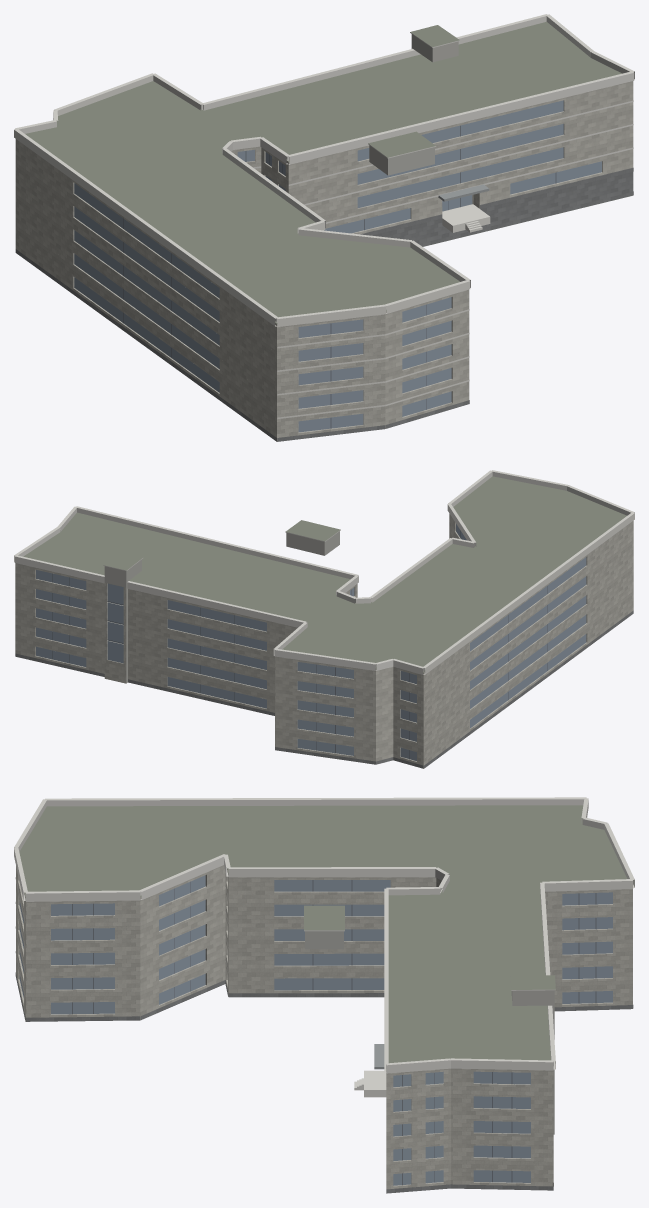
3 renders of one model, top to bottom at view 1: azimuth 30°, elevation 25°; view 2: azimuth 150°, elevation 25°; view 3: azimuth 270°, elevation 25°, orthographic. The views are drawn at different scales.
Parts seen in each view (by area): view 1: b58__roof, b58__wall, b58__glass, b58__trim, b58__base, b58__wall2, b58__entranceStair; view 2: b58__wall, b58__roof, b58__glass, b58__trim, b58__base, b58__wall2, b58__frame; view 3: b58__roof, b58__wall, b58__glass, b58__trim, b58__base, b58__wall2, b58__frame, b58__entranceStair.
Boxes of the visible parts, left/top/right/bottom form: b58__roof: left=25, top=22, right=632, bottom=323; b58__wall: left=15, top=81, right=633, bottom=441; b58__glass: left=74, top=100, right=601, bottom=432; b58__trim: left=14, top=14, right=634, bottom=418; b58__base: left=15, top=167, right=633, bottom=441; b58__wall2: left=369, top=34, right=458, bottom=175; b58__entranceStair: left=442, top=204, right=490, bottom=232; b58__wall: left=15, top=513, right=633, bottom=768; b58__roof: left=23, top=476, right=626, bottom=672; b58__glass: left=36, top=524, right=586, bottom=760; b58__trim: left=14, top=470, right=634, bottom=674; b58__base: left=15, top=610, right=633, bottom=768; b58__wall2: left=104, top=531, right=339, bottom=683; b58__frame: left=52, top=530, right=547, bottom=758; b58__roof: left=19, top=805, right=626, bottom=1190; b58__wall: left=16, top=865, right=632, bottom=1189; b58__glass: left=19, top=875, right=612, bottom=1185; b58__trim: left=14, top=797, right=634, bottom=1073; b58__base: left=15, top=972, right=633, bottom=1193; b58__wall2: left=305, top=931, right=554, bottom=1134; b58__frame: left=72, top=880, right=596, bottom=1185; b58__entranceStair: left=354, top=1070, right=386, bottom=1097.
Bounding box in the file's own units: 83.98 × 21.29 × 82.29.
10 materials, 2 textured.
